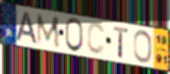A: (15, 10, 39, 45)
C: (86, 21, 107, 57)
M: (35, 13, 61, 50)
O: (64, 17, 84, 54), (133, 30, 153, 65)
T: (113, 26, 130, 61)
